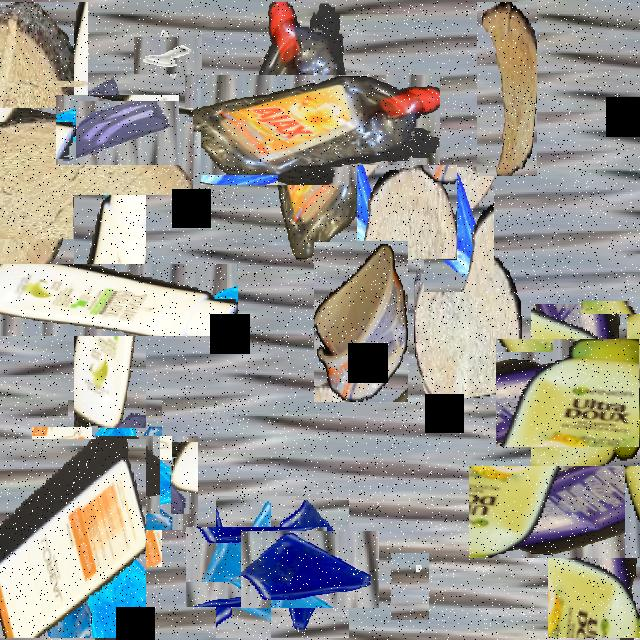glass: (50, 418, 180, 549), (200, 512, 312, 622), (256, 515, 364, 623), (68, 81, 165, 179), (424, 167, 494, 292), (20, 438, 104, 522), (0, 40, 46, 126)
metal: (0, 180, 59, 253), (142, 29, 194, 81), (391, 553, 429, 620), (603, 277, 640, 337)
plastic: (220, 38, 404, 222), (0, 439, 146, 638), (28, 218, 192, 382), (508, 425, 640, 598), (513, 321, 640, 464), (314, 242, 408, 402)
wood: (0, 54, 140, 247), (414, 242, 522, 398), (477, 2, 537, 176), (357, 166, 457, 262)
